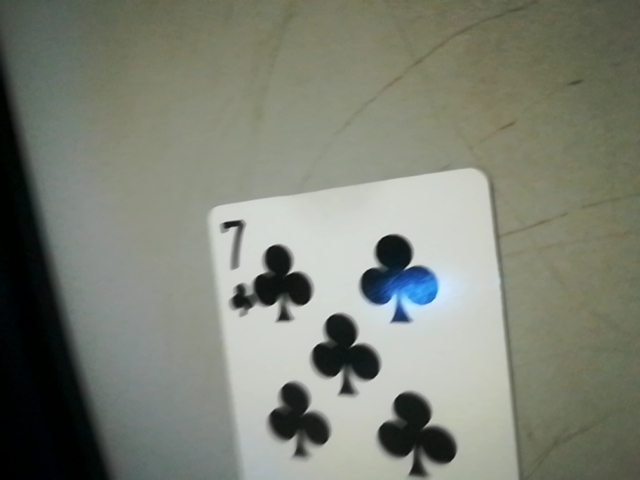mh 7: (206, 207, 260, 322)
